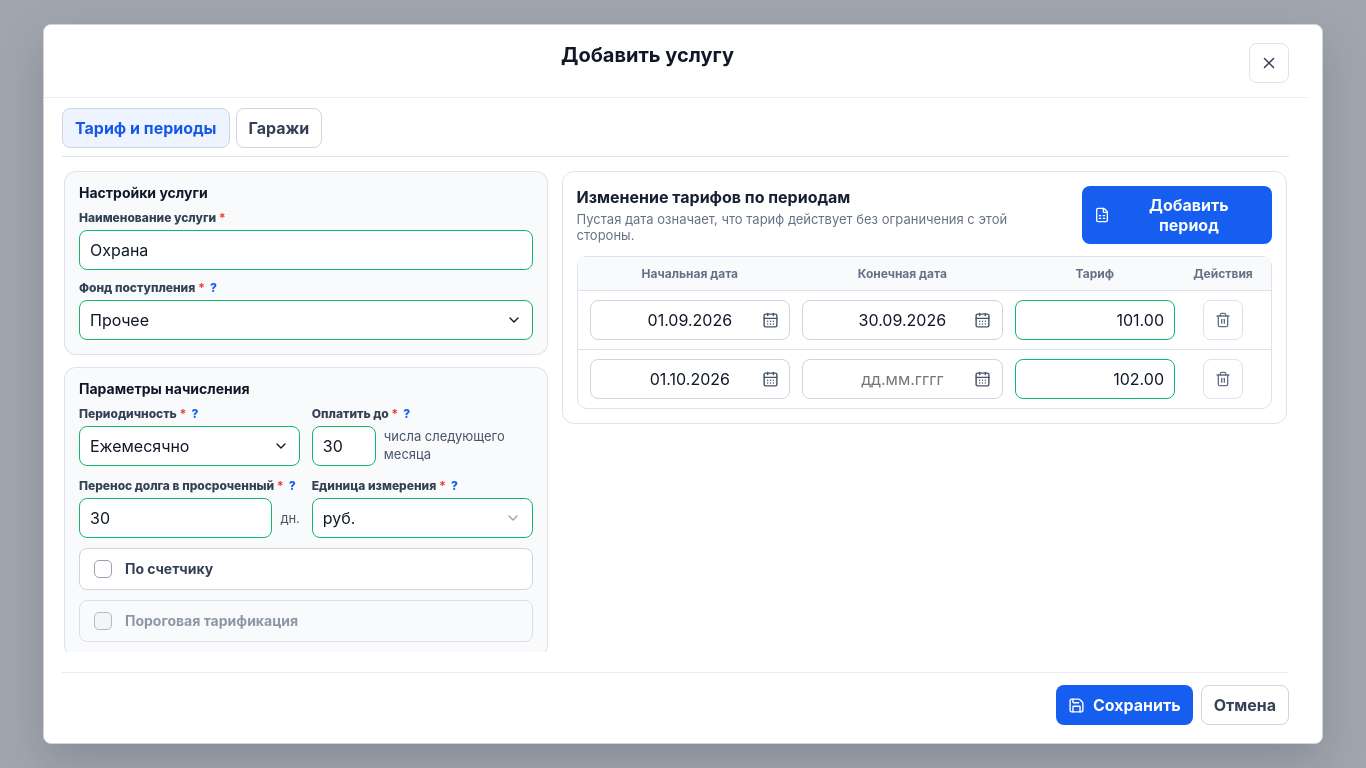
Scenario: редактор тарифной сетки услуги › не переносит будущую ставку на действующий период при сохранении карточки услуги
Step 1. Replace the text in the 2nd field named "Тариф регулярной услуги" with "150" → (1095, 379), box [1015, 359, 1175, 399]
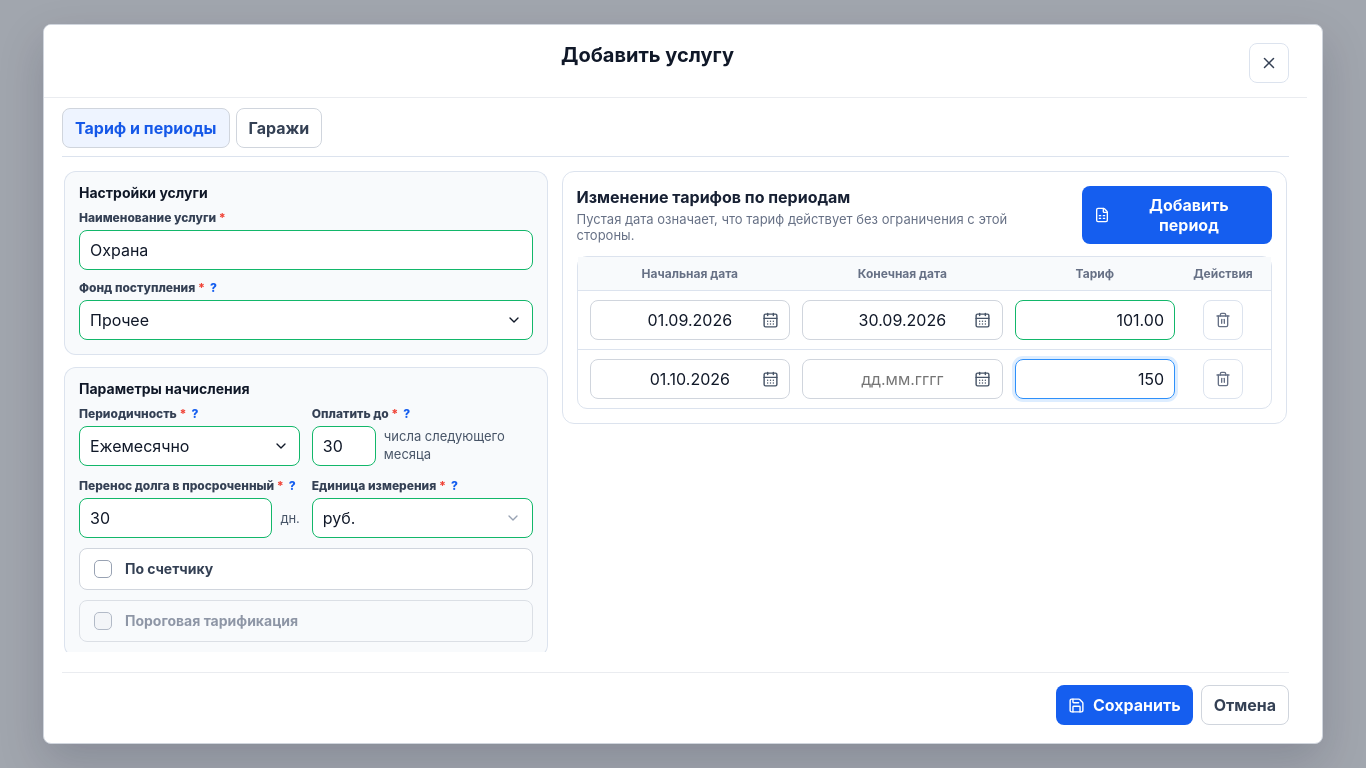
Step 2. Click the button "Сохранить" → (1124, 705), box [1056, 685, 1193, 725]
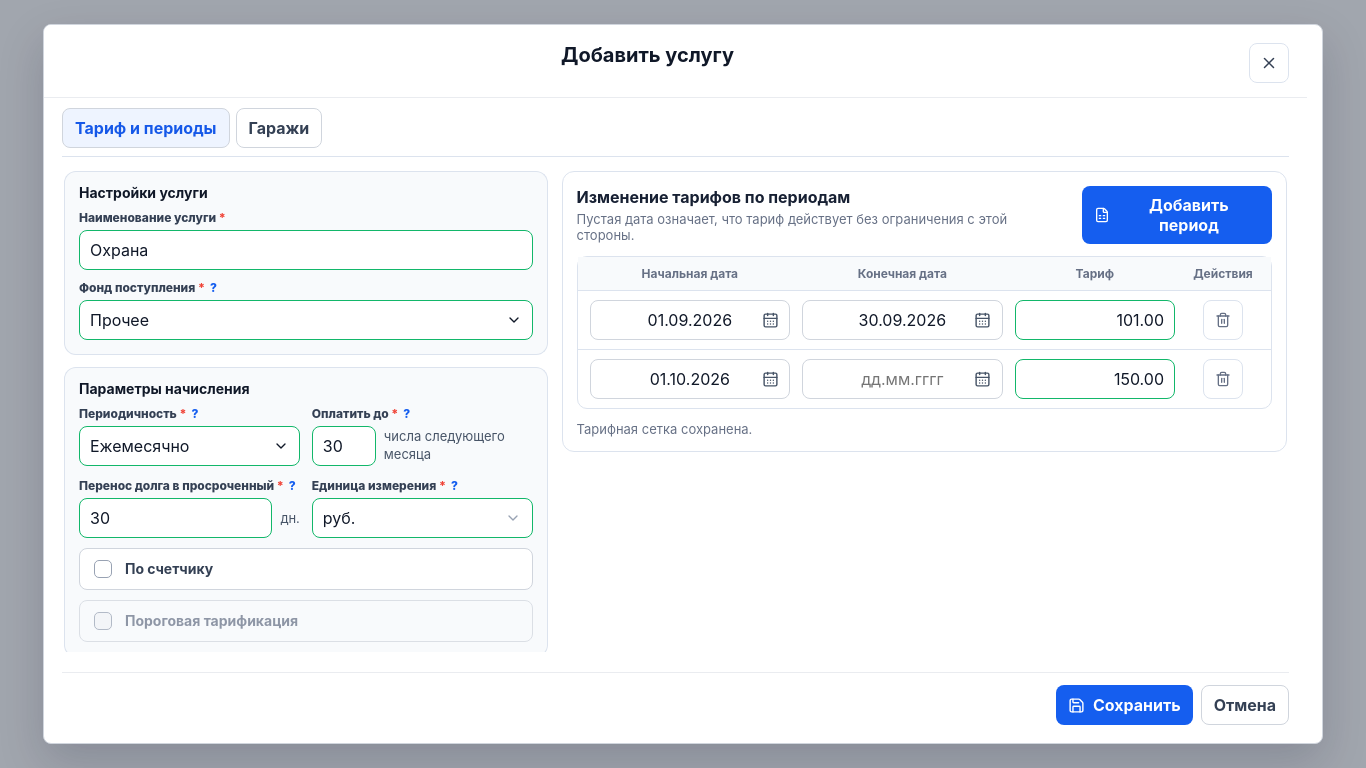
Expected: the text "Тарифная сетка сохранена." is shown, [577, 421, 752, 437]
